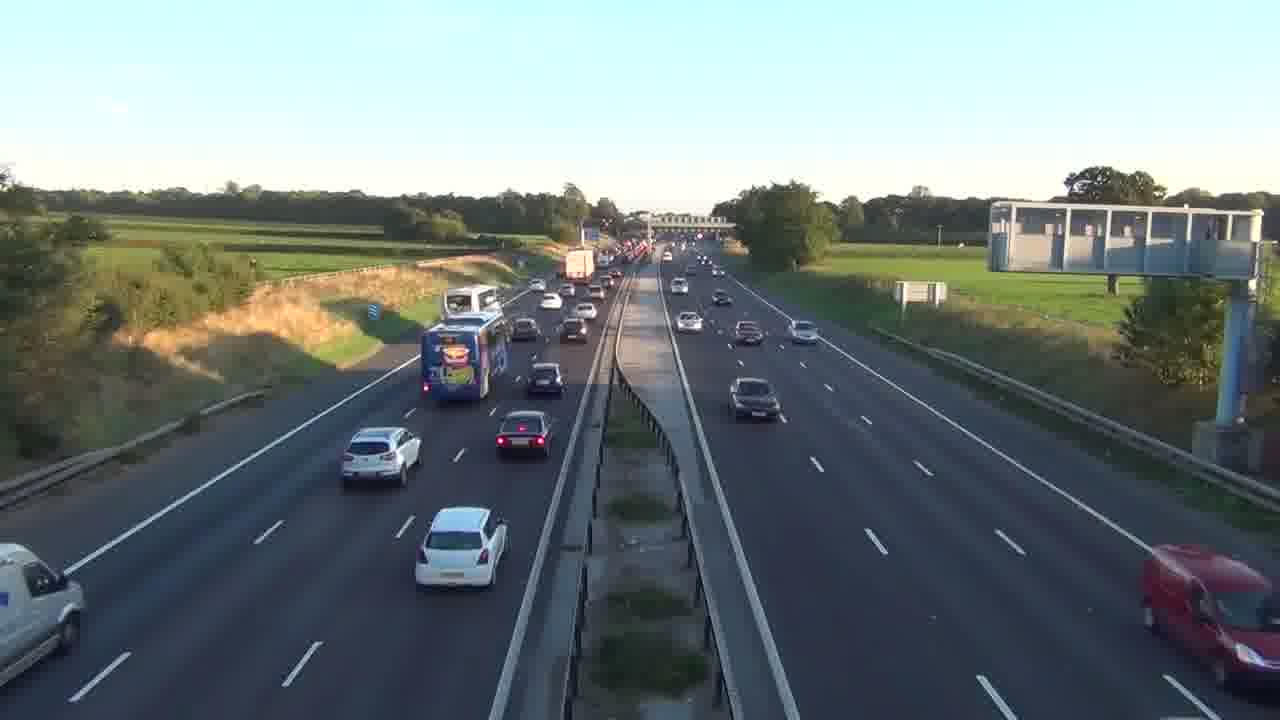bus: (419, 311, 509, 403)
car: (0, 541, 86, 689), (414, 505, 511, 591), (339, 426, 422, 487), (495, 410, 551, 458), (728, 376, 783, 422), (527, 362, 564, 398), (558, 318, 589, 345), (790, 320, 820, 344), (676, 310, 704, 332), (712, 291, 733, 306)
truck: (1138, 543, 1279, 694), (0, 541, 86, 689)
